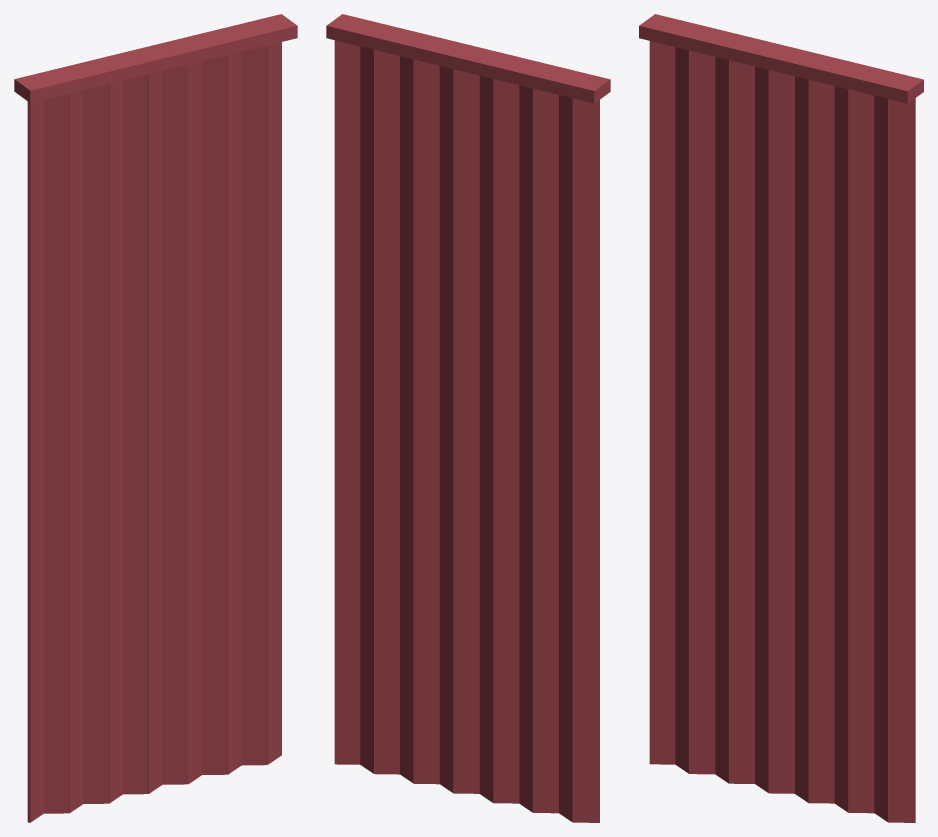
The model's file is Stage_Curtain.fbx.
3 renders of one model, left to right at view 1: azimuth 30°, elevation 25°; view 2: azimuth 150°, elevation 25°; view 3: azimuth 330°, elevation 25°, orthographic.
Parts seen in each view (by area): view 1: Stage_Curtain; view 2: Stage_Curtain; view 3: Stage_Curtain.
Boxes of the visible parts, <box> form: Stage_Curtain: <box>14,14,297,822</box>; Stage_Curtain: <box>326,14,610,822</box>; Stage_Curtain: <box>639,14,923,822</box>.
Size of the model in its own units: 2.7 by 7.12 by 0.28.
